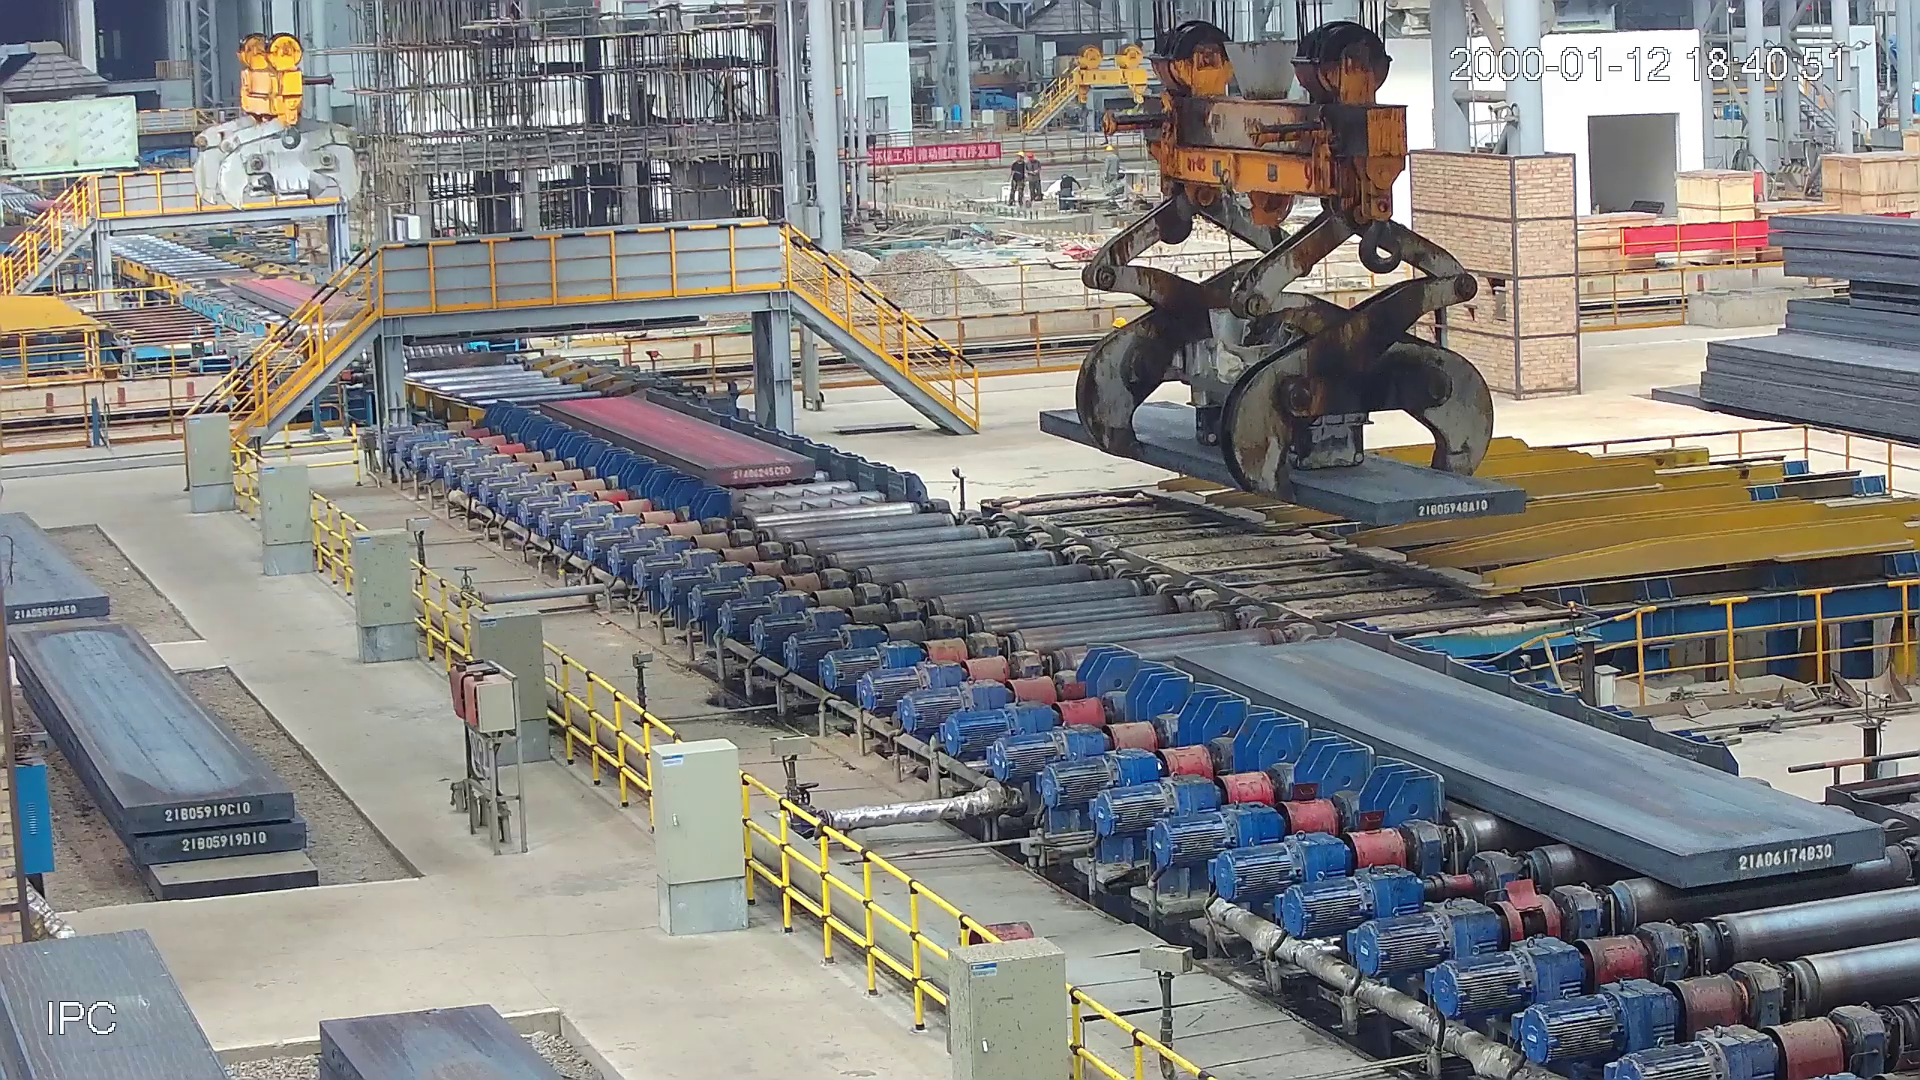crane: (181, 21, 378, 211)
craneandslab: (1035, 1, 1536, 530)
slab: (1167, 629, 1898, 897), (526, 388, 827, 495), (222, 272, 371, 320)
